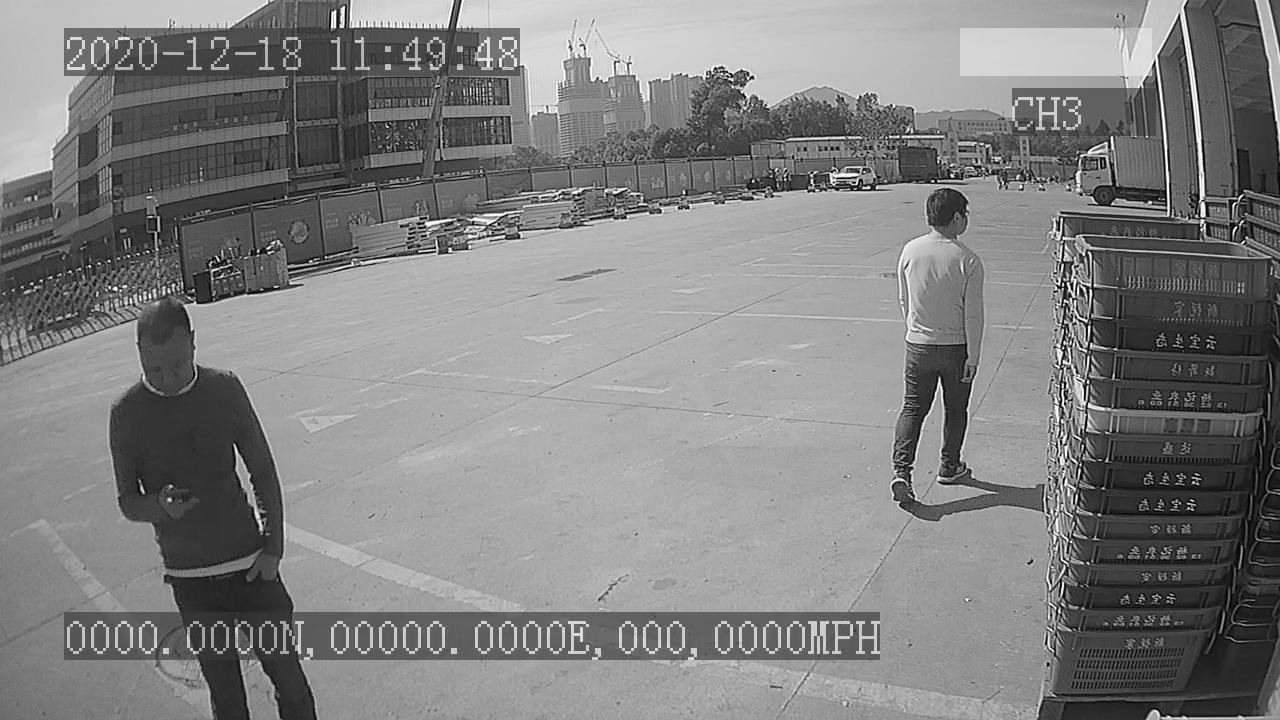person: (884, 183, 988, 517)
